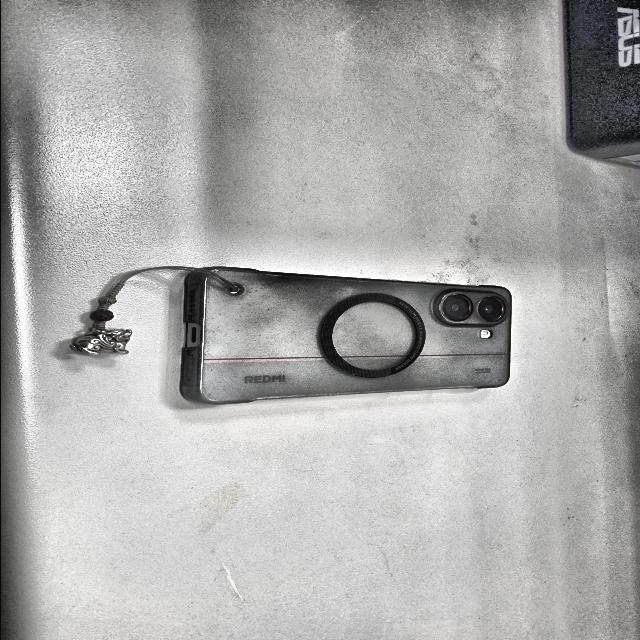PHONE: (180, 267, 511, 404)
